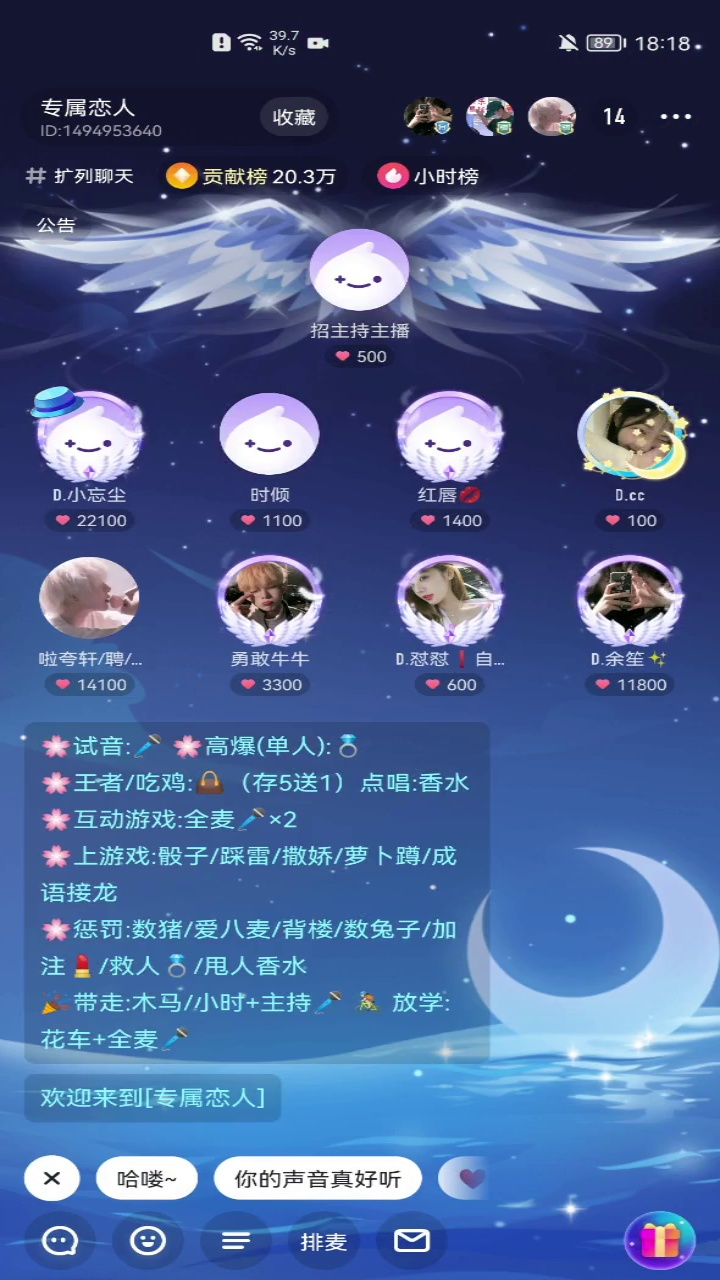avatar: (391, 380, 504, 488), (29, 382, 147, 485), (307, 225, 413, 316), (215, 390, 324, 476)
